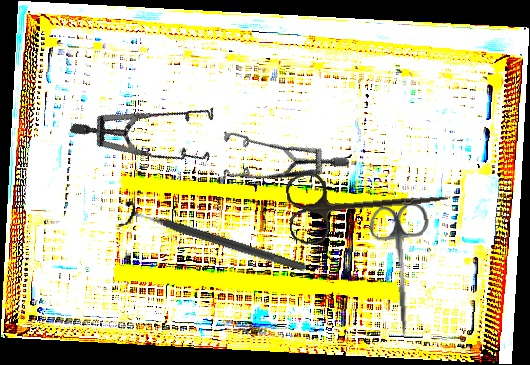Fixation Ring: (117, 197, 311, 283)
Iris Scissors: (284, 159, 452, 247), (368, 202, 437, 339)
Speculum: (68, 45, 236, 209), (202, 91, 351, 233)
